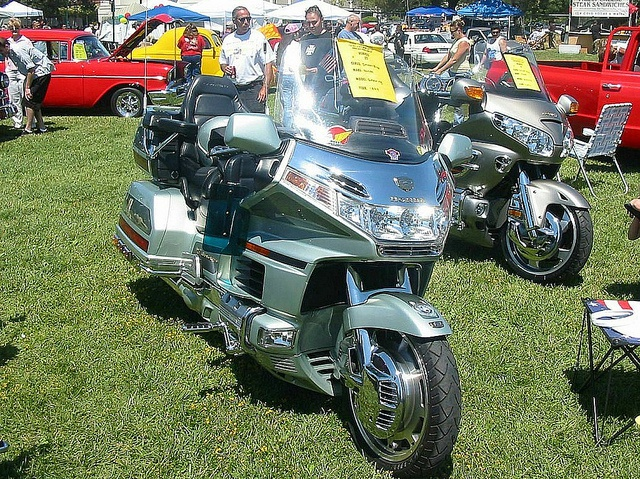non-vehicle: (109, 1, 467, 469), (428, 39, 595, 290), (417, 71, 466, 99)
